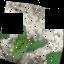Morning glory: (0, 6, 64, 64)
